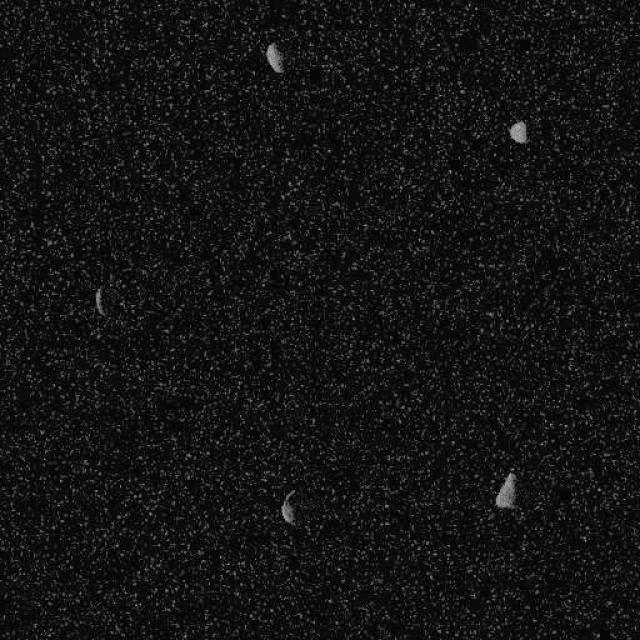D2: (493, 470, 518, 509), (280, 488, 302, 528), (264, 41, 285, 74), (508, 118, 528, 144), (94, 285, 106, 316)
